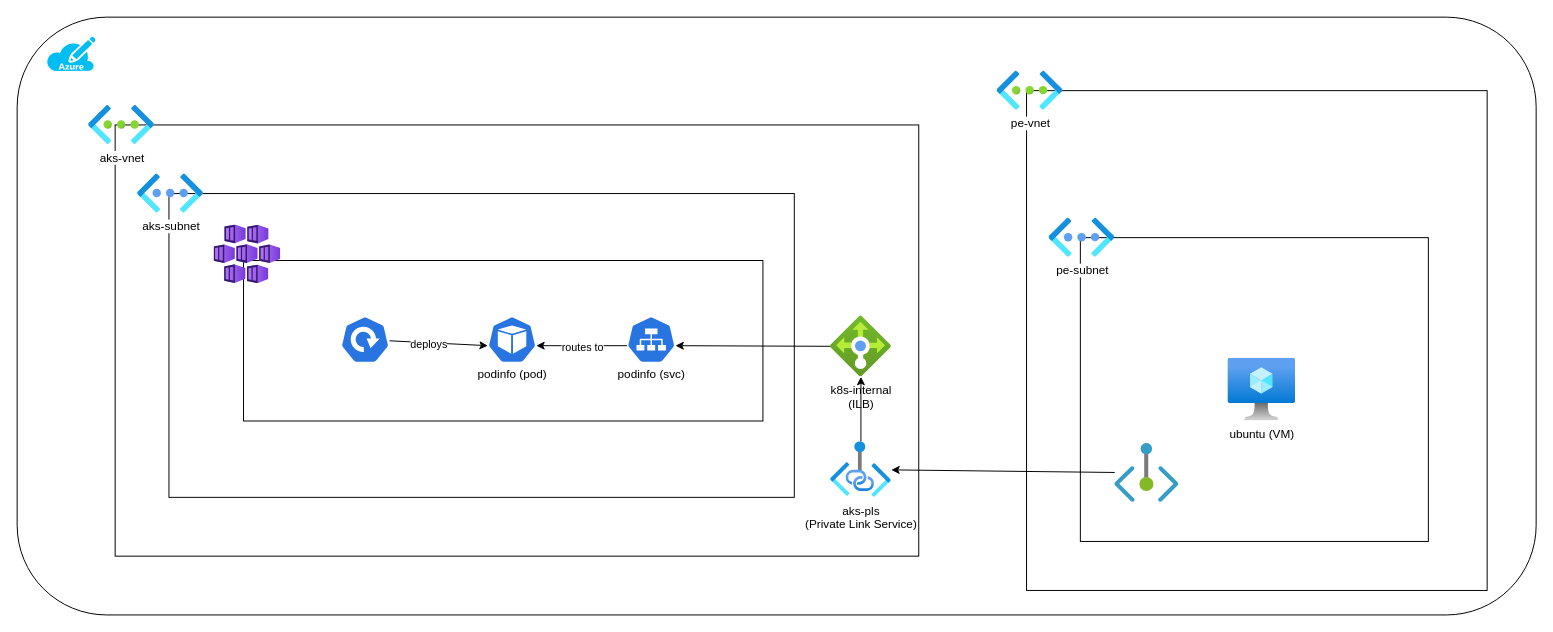
Some shapes in this 1553 by 632 pixel diagram are drawn without their labels. Each missing label, with the centre of its shape:
AKS: (x=247, y=254)
pe (Private Endpoint): (x=1146, y=472)
podinfo (deploy): (x=365, y=339)
Subscription: (x=70, y=53)
